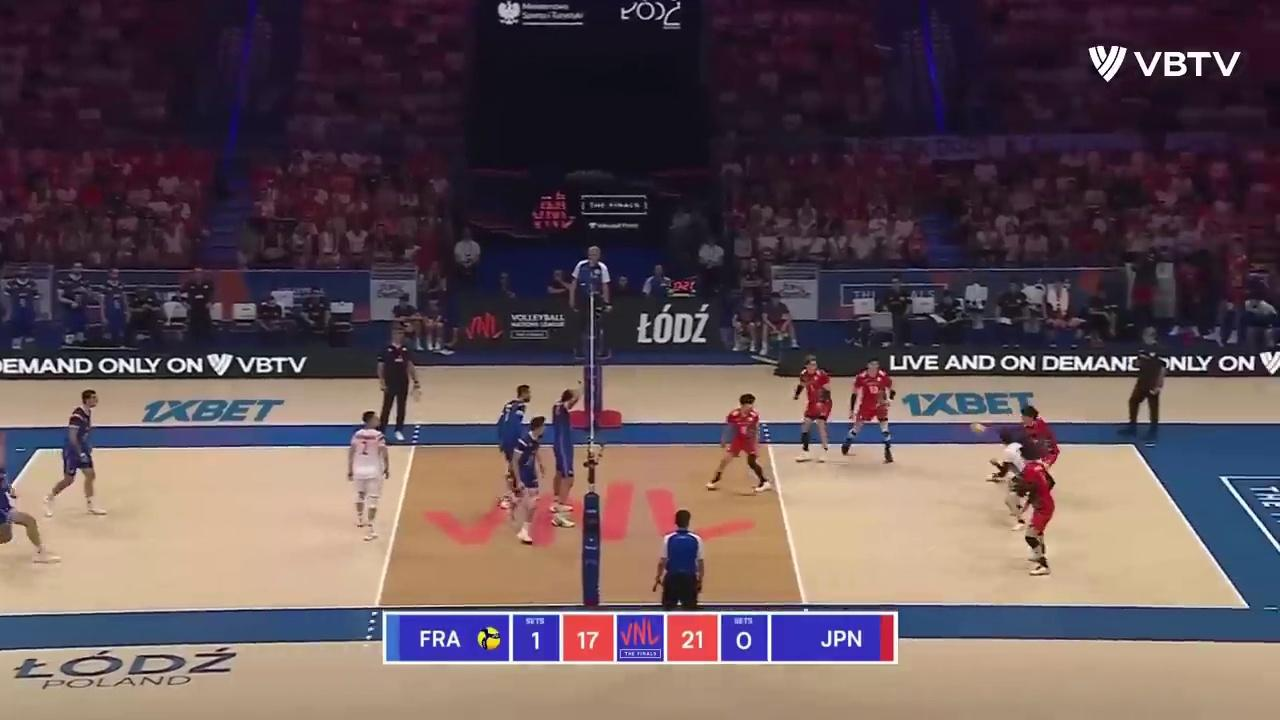ball: (969, 421, 987, 436)
